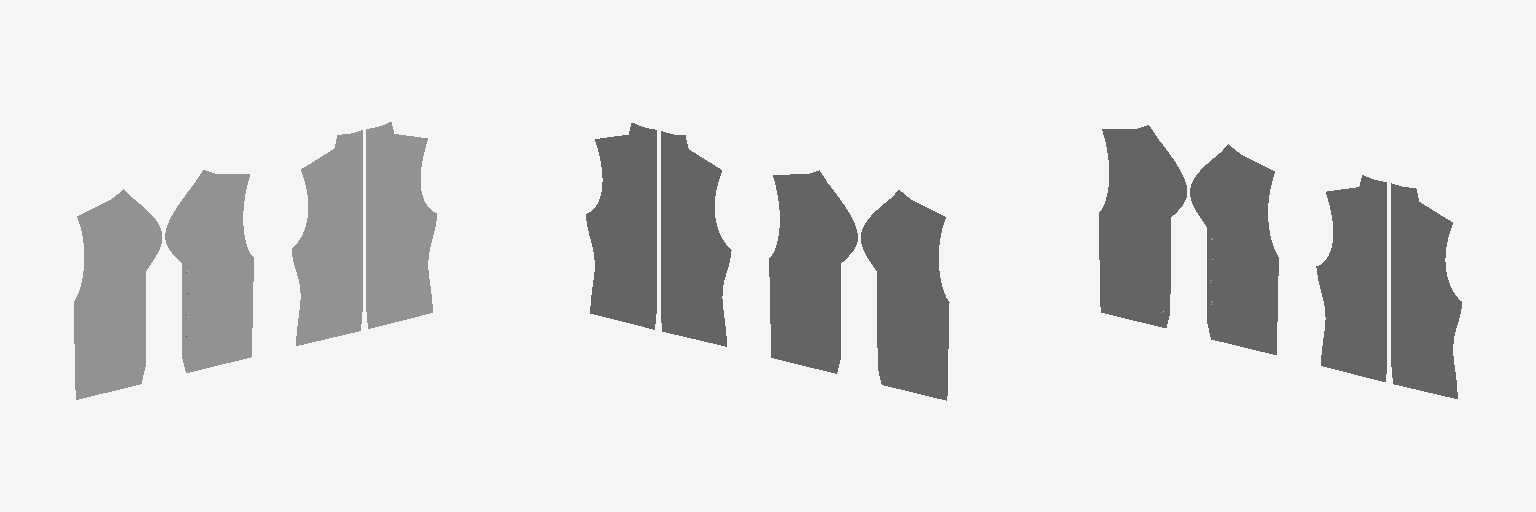
Rendered from Gilet_Flat.obj.
The picture shows the model from 3 angles: view 1: azimuth 30°, elevation 25°; view 2: azimuth 150°, elevation 25°; view 3: azimuth 330°, elevation 25°; orthographic projection.
Parts seen in each view (by area): view 1: Gilet_Flat; view 2: Gilet_Flat; view 3: Gilet_Flat.
Boxes of the visible parts, x1,y1,x2,y2 form: Gilet_Flat: [74, 122, 436, 399]; Gilet_Flat: [586, 123, 949, 400]; Gilet_Flat: [1099, 125, 1461, 398].
Bounding box in the file's own units: 62.62 × 33.23 × 0.267.